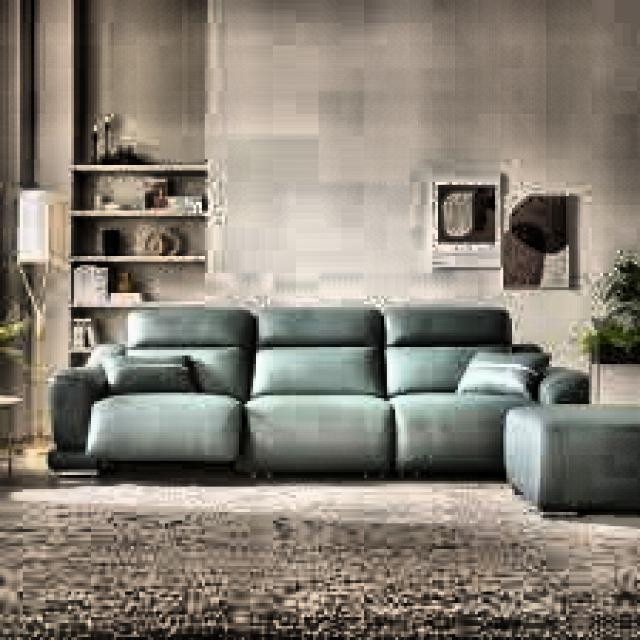sofa: (46, 302, 628, 489)
